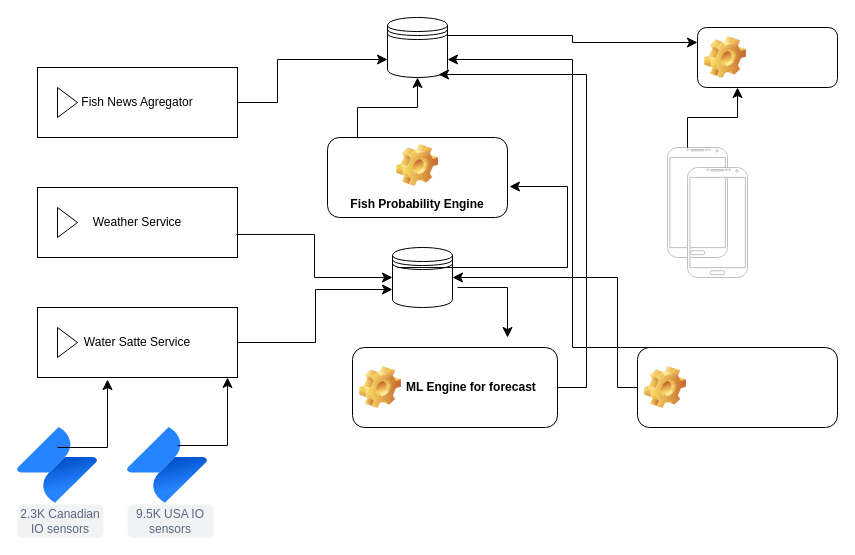
The diagram is 855 pixels wide and 555 high, and some of its shapes have lost their labels. Each missing label, with the centre of its shape:
Configurational Web Server: point (737, 387)
Web Server: point (767, 57)
